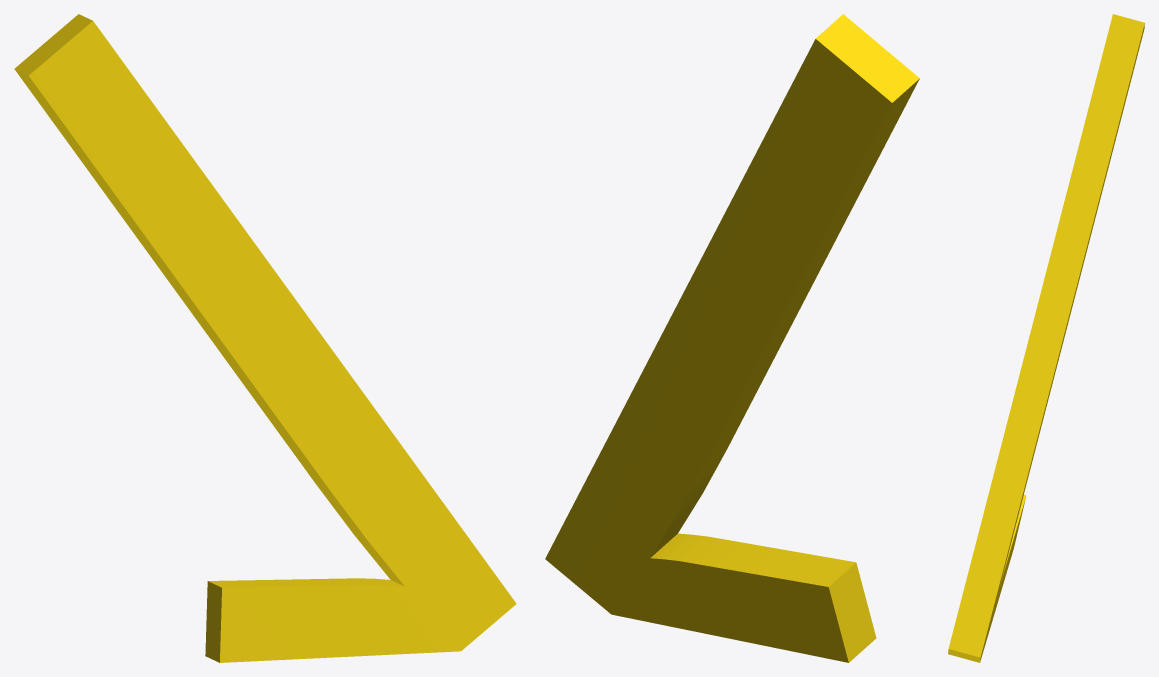
Rendered from Number_1.gltf.
The picture shows the model from 3 angles, left to right: view 1: azimuth 30°, elevation 25°; view 2: azimuth 150°, elevation 25°; view 3: azimuth 270°, elevation 25°; orthographic projection. The views are drawn at different scales.
Visible parts, largest first — view 1: Sub_6_Cell_3_2_Number_1; view 2: Sub_6_Cell_3_2_Number_1; view 3: Sub_6_Cell_3_2_Number_1.
Part boxes in pixels (bbox=[...]): Sub_6_Cell_3_2_Number_1: bbox=[14, 14, 516, 662]; Sub_6_Cell_3_2_Number_1: bbox=[545, 14, 919, 662]; Sub_6_Cell_3_2_Number_1: bbox=[948, 14, 1144, 662].
Size of the model in its own units: 0.0148 by 0.0226 by 0.00754.
